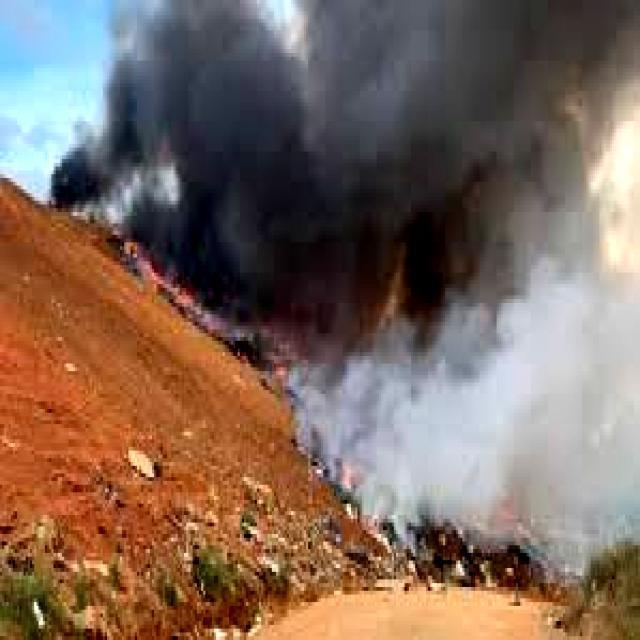Smoke: (97, 19, 640, 582)
